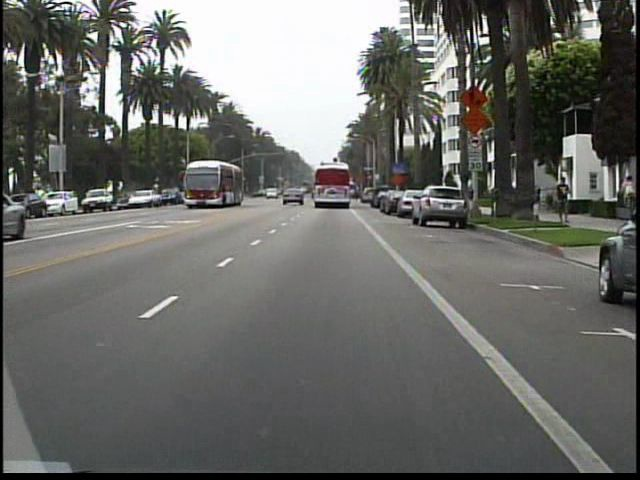person: (551, 173, 573, 231), (613, 170, 634, 220)
